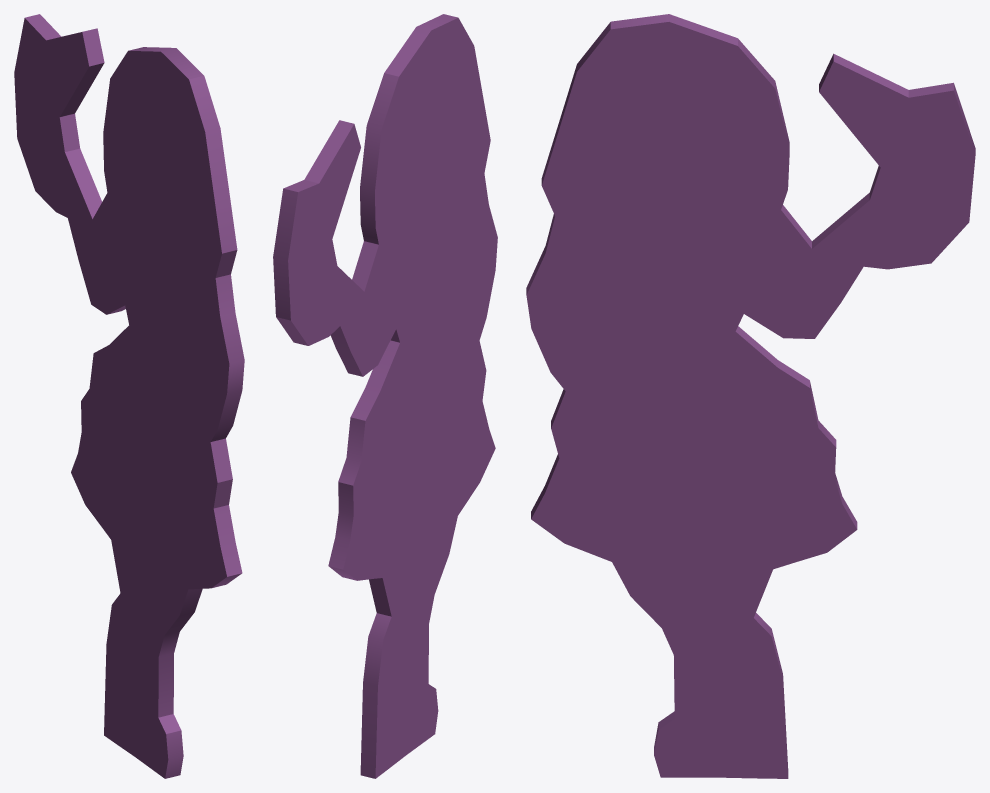
The model's file is Alchimista Viola_Trasparente.fbx.
3 renders of one model, left to right at view 1: azimuth 30°, elevation 25°; view 2: azimuth 150°, elevation 25°; view 3: azimuth 270°, elevation 25°, orthographic. The views are drawn at different scales.
Parts seen in each view (by area): view 1: Plane.001; view 2: Plane.001; view 3: Plane.001.
Boxes of the visible parts, x1=… form: Plane.001: x1=14, y1=14, x2=244, y2=778; Plane.001: x1=273, y1=14, x2=497, y2=778; Plane.001: x1=526, y1=14, x2=975, y2=778.
Size of the model in its own units: 3.07 by 139 by 74.49.
